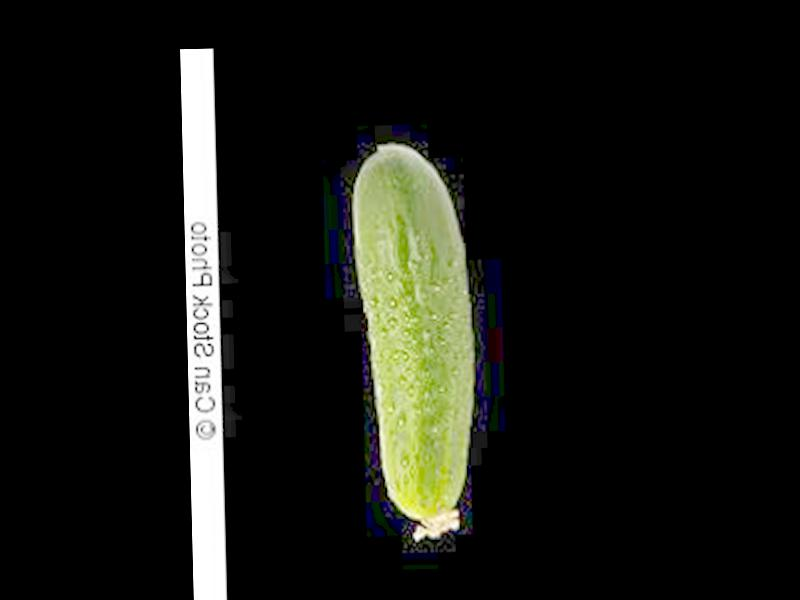Cucumber: (352, 142, 478, 542)
